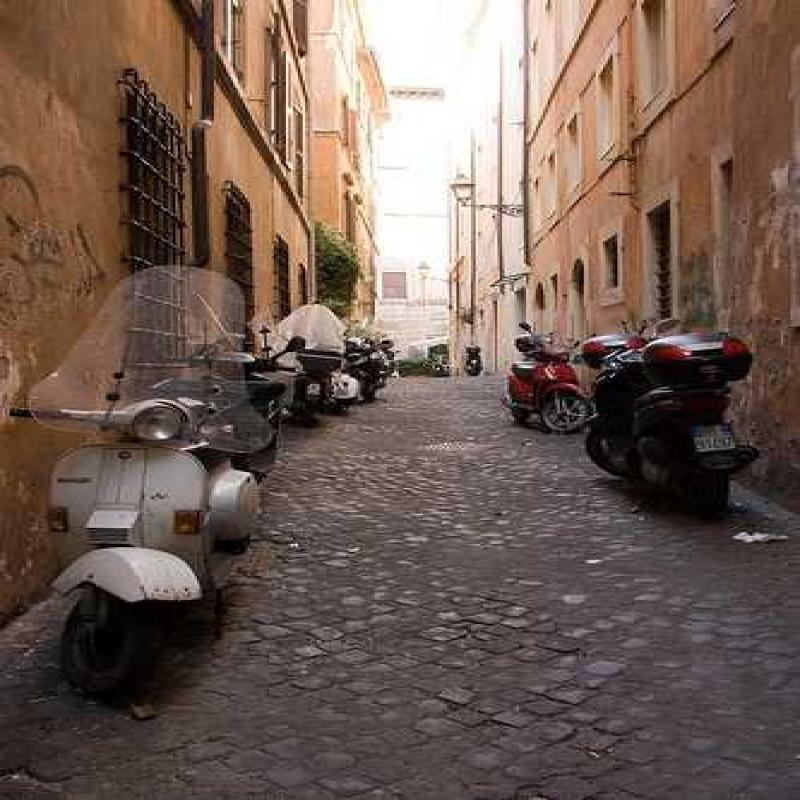bike: (22, 354, 273, 685), (486, 313, 596, 437)
